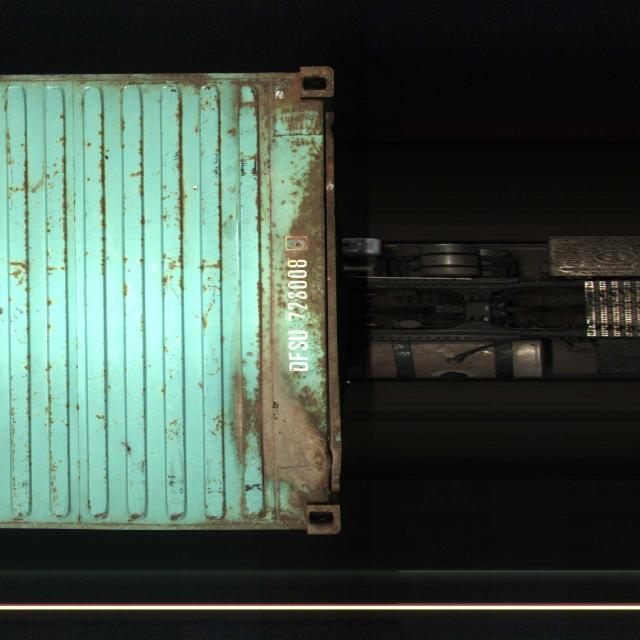rust: (230, 358, 334, 493), (295, 157, 329, 311), (246, 76, 307, 139)
